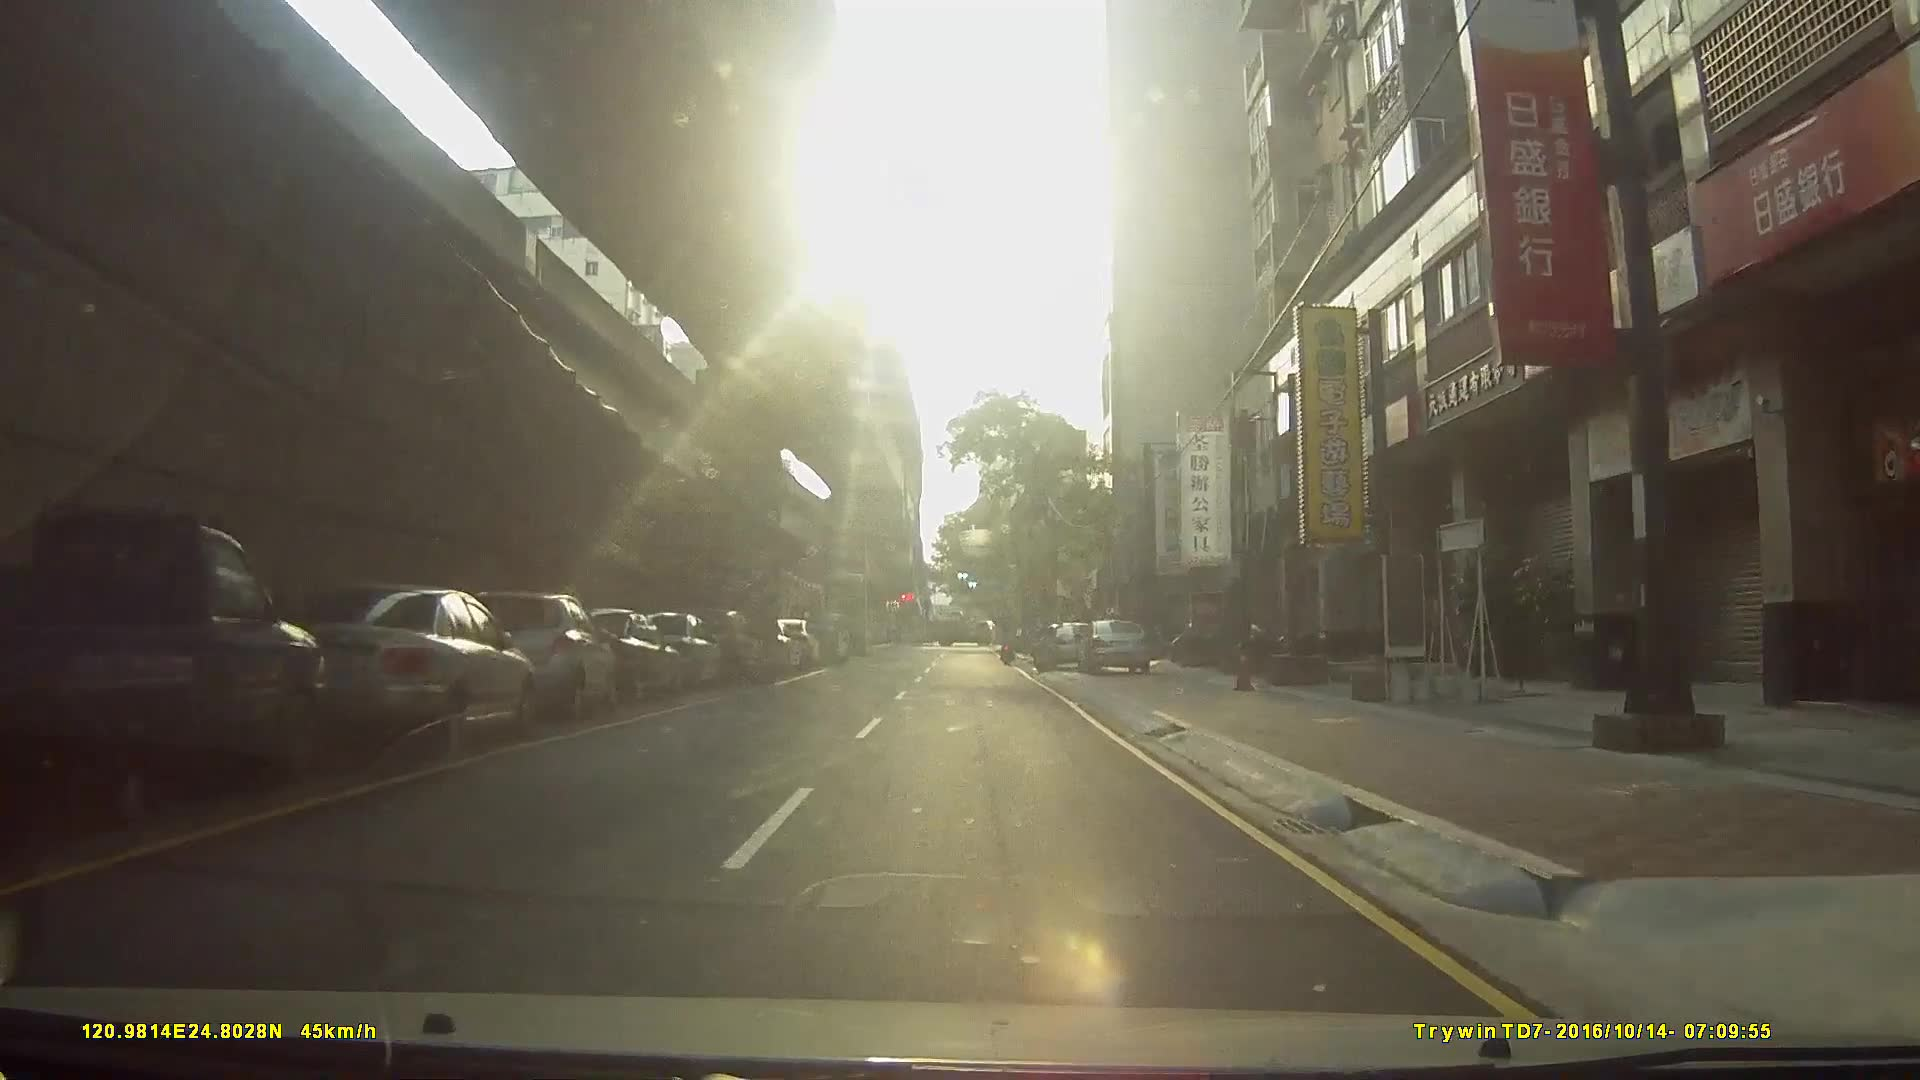vehicle: (3, 509, 328, 843), (239, 578, 529, 764), (442, 585, 611, 728), (553, 607, 678, 704), (633, 611, 717, 688), (684, 607, 764, 684), (1073, 616, 1155, 673), (1031, 618, 1092, 673), (923, 609, 1002, 646)
